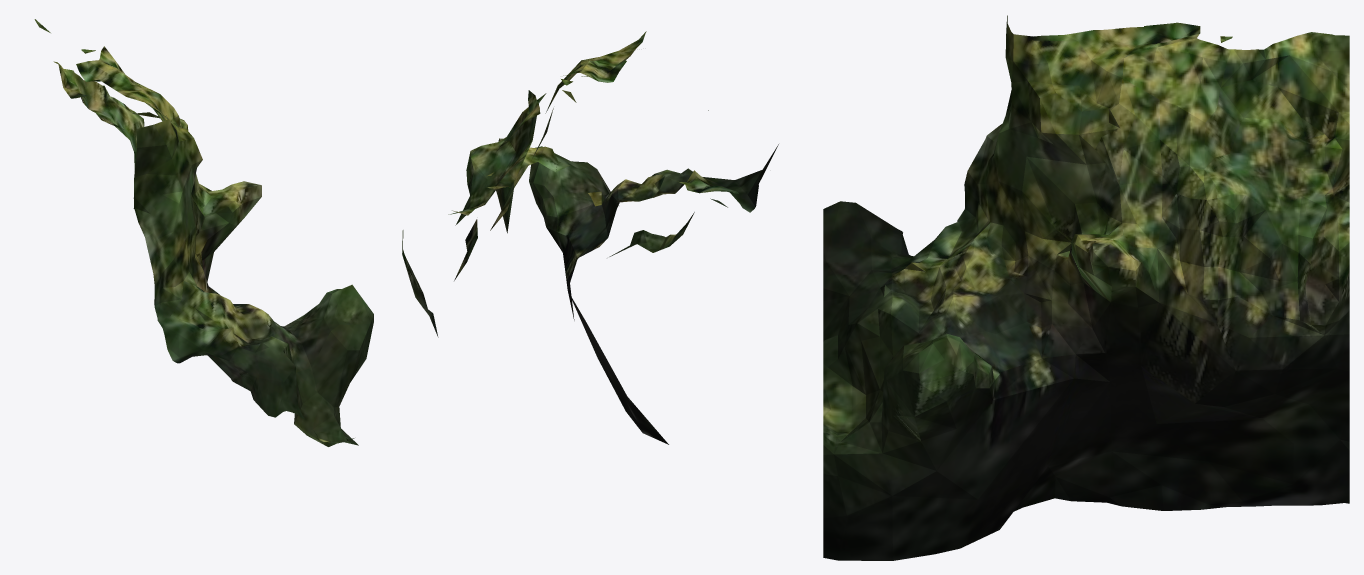
3 renders of one model, left to right at view 1: azimuth 30°, elevation 25°; view 2: azimuth 150°, elevation 25°; view 3: azimuth 270°, elevation 25°, orthographic. The views are drawn at different scales.
Bounding box in the file's own units: 0.4361 × 0.8374 × 0.8374.
3 materials, 3 textured.
